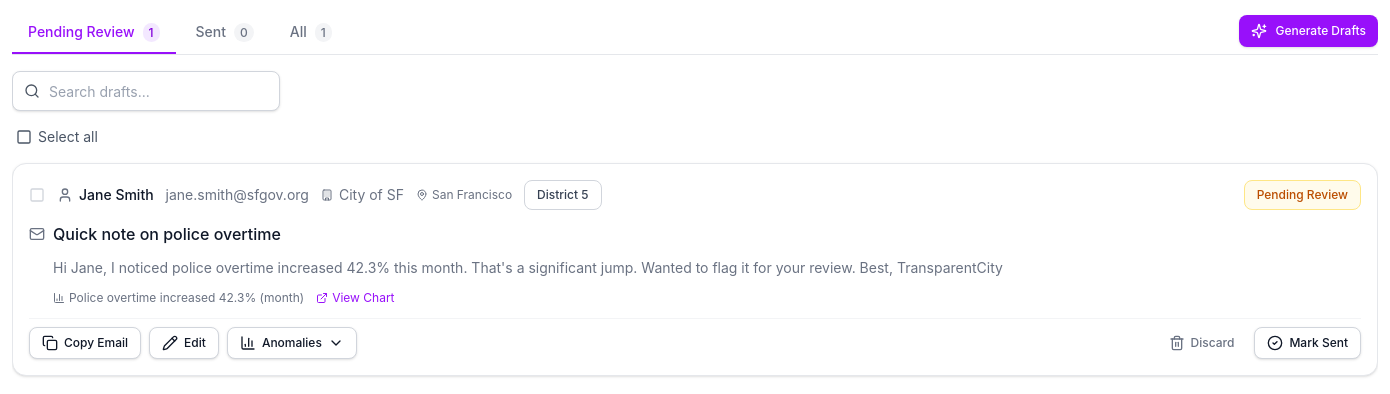
ReviewAndSend › copies full email on Copy Email click
Click the button "Copy Email".
click(85, 343)  # box [29, 327, 141, 359]
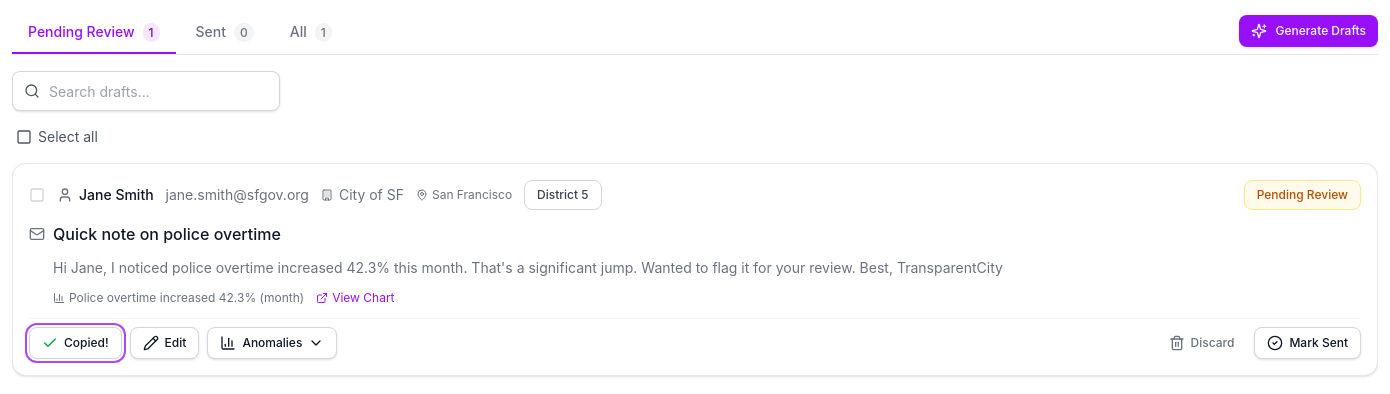
Expected: the button "Copied!" is shown, [29, 327, 122, 359]
